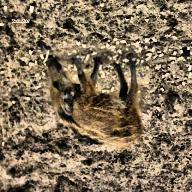boar: (45, 62, 152, 142)
